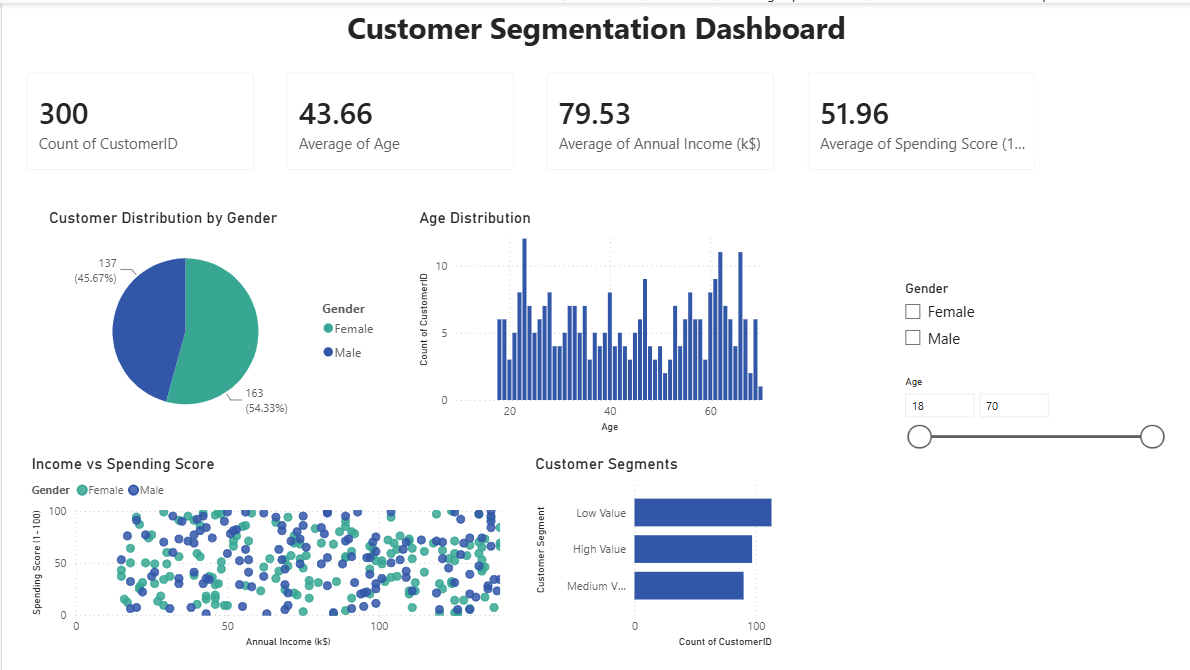

The page's visual inventory and layout, read from the dashboard file:
{"tool":"powerbi","page":{"name":"Page 1","canvas":[1280,720],"ordinal":0},"visuals":[{"type":"textbox","box":[10,0,280,280],"z":0},{"type":"textbox","box":[330.7,0,617.5,68.6],"z":1000},{"type":"cardVisual","fields":{"Data":["CountNonNull(Mall_Customers csv.CustomerID)"]},"box":[9.6,57.6,279.9,140],"z":2000},{"type":"cardVisual","fields":{"Data":["Avg(Mall_Customers csv.Age)"]},"box":[289.5,57.6,279.9,140],"z":3000},{"type":"cardVisual","fields":{"Data":["Avg(Mall_Customers csv.Annual Income (k$))"]},"box":[569.5,57.6,279.9,140],"z":4000},{"type":"cardVisual","fields":{"Data":["Avg(Mall_Customers csv.Spending Score (1-100))"]},"box":[849.4,57.6,279.9,140],"z":5000},{"type":"pieChart","title":"Customer Distribution by Gender","fields":{"Category":["Mall_Customers csv.Gender"],"Y":["CountNonNull(Mall_Customers csv.CustomerID)"]},"box":[45.2,220.5,369.9,246.6],"z":6000},{"type":"clusteredColumnChart","title":"Age Distribution","fields":{"Category":["Mall_Customers csv.Age"],"Y":["CountNonNull(Mall_Customers csv.CustomerID)"]},"box":[443.8,220.5,384.9,246.6],"z":7000},{"type":"scatterChart","title":"Income vs Spending Score","fields":{"X":["Mall_Customers csv.Annual Income (k$)"],"Y":["Mall_Customers csv.Spending Score (1-100)"],"Series":["Mall_Customers csv.Gender"]},"box":[27.4,485.8,524.2,212.7],"z":8000},{"type":"clusteredBarChart","title":"Customer Segments","fields":{"Category":["Mall_Customers csv.Customer Segment"],"Y":["CountNonNull(Mall_Customers csv.CustomerID)"]},"box":[569.5,485.8,322.5,212.7],"z":9000},{"type":"slicer","fields":{"Values":["Mall_Customers csv.Gender"]},"box":[958.9,293.2,195,102.2],"z":10000},{"type":"slicer","fields":{"Values":["Mall_Customers csv.Age"]},"box":[958.9,395.4,299.9,106.2],"z":11000}]}

Visuals, with their boxes in screenshot pixels (x1, y1, x2, y2), scaled from the page's 1280x720 canvas onto the 1190x670 screenshot:
textbox: detection(9, 0, 270, 261)
textbox: detection(307, 0, 882, 64)
cardVisual - CountNonNull(Mall_Customers csv.CustomerID): detection(9, 54, 269, 184)
cardVisual - Avg(Mall_Customers csv.Age): detection(269, 54, 529, 184)
cardVisual - Avg(Mall_Customers csv.Annual Income (k$)): detection(529, 54, 790, 184)
cardVisual - Avg(Mall_Customers csv.Spending Score (1-100)): detection(790, 54, 1050, 184)
"Customer Distribution by Gender" pieChart: detection(42, 205, 386, 435)
"Age Distribution" clusteredColumnChart: detection(413, 205, 770, 435)
"Income vs Spending Score" scatterChart: detection(25, 452, 513, 650)
"Customer Segments" clusteredBarChart: detection(529, 452, 829, 650)
slicer - Mall_Customers csv.Gender: detection(891, 273, 1073, 368)
slicer - Mall_Customers csv.Age: detection(891, 368, 1170, 467)
